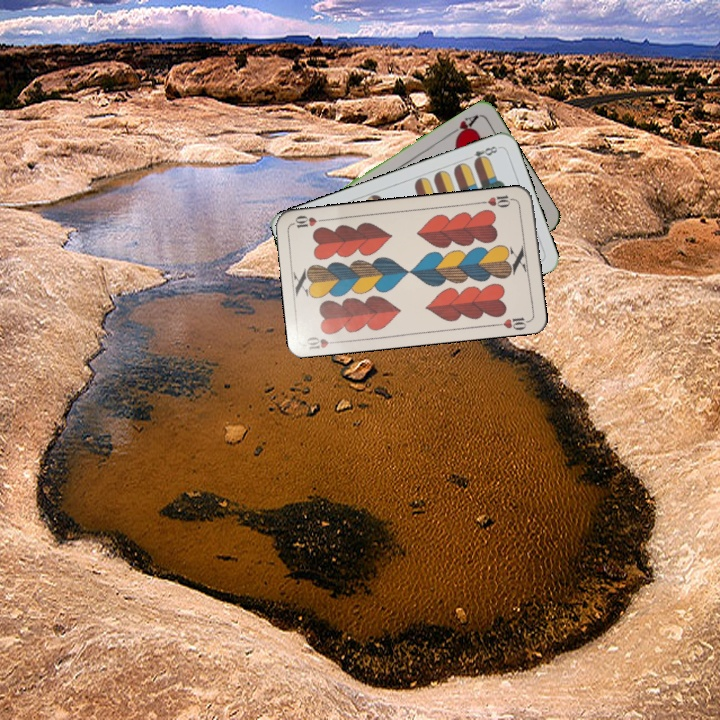E8: (462, 142, 502, 166)
H10: (302, 332, 343, 352), (477, 191, 518, 210)
HA: (445, 111, 481, 142)
